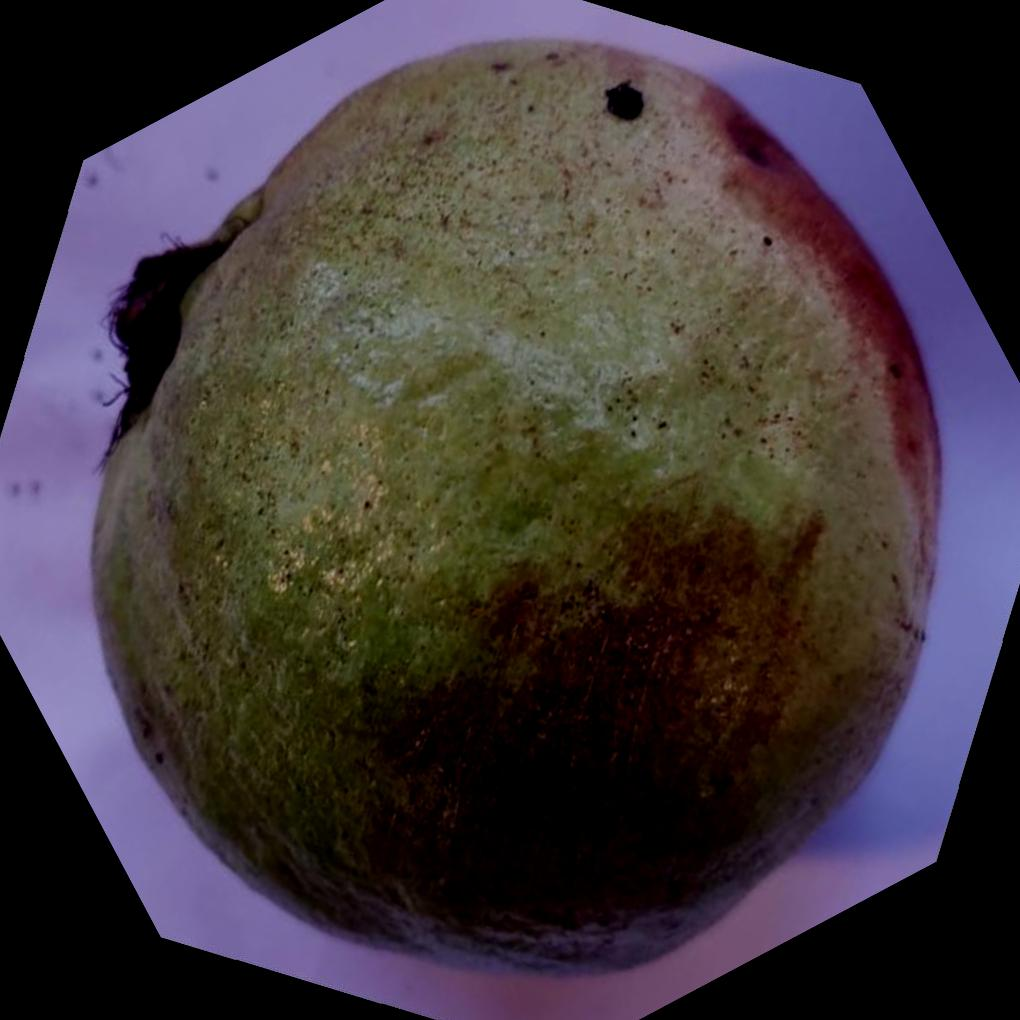FreshOrange: (83, 37, 940, 976)
